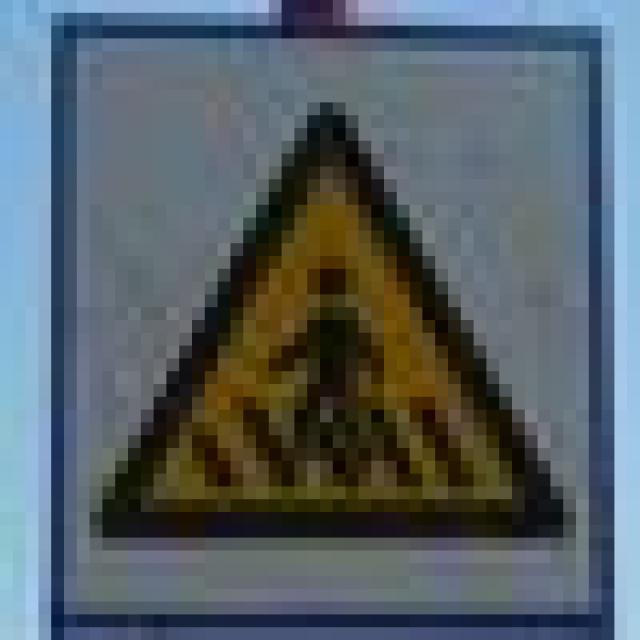PEDESTRIAN_CROSSING: (64, 90, 563, 538)
